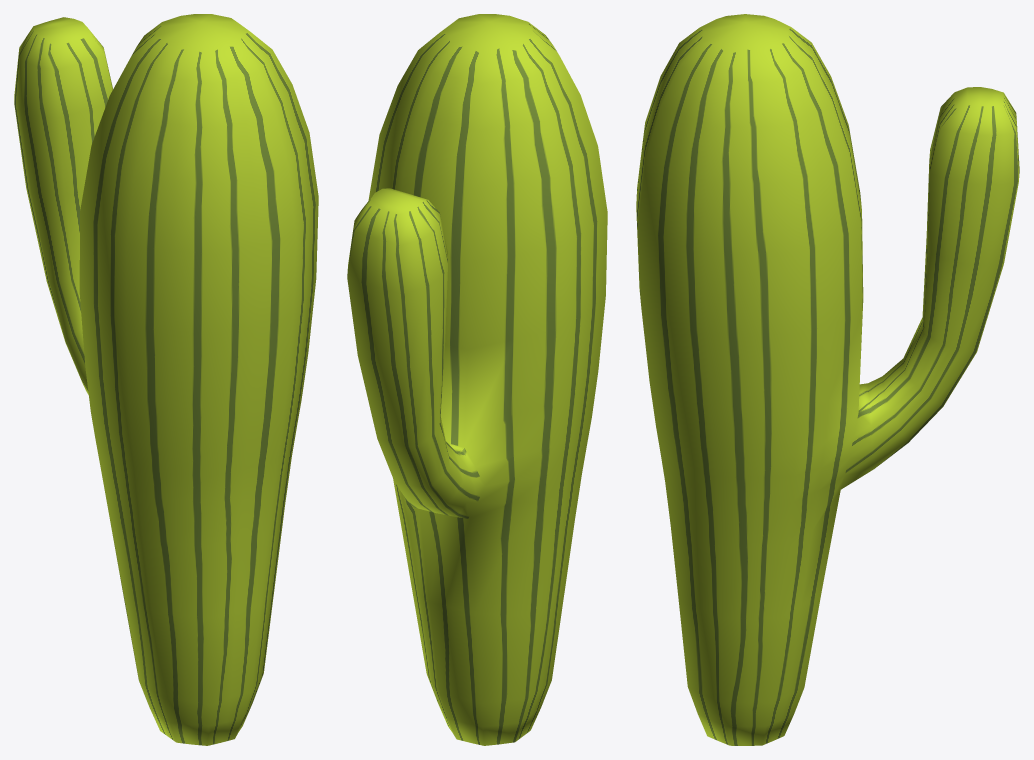
Rendered from Cactus_small.obj.
3 renders of one model, left to right at view 1: azimuth 30°, elevation 25°; view 2: azimuth 150°, elevation 25°; view 3: azimuth 270°, elevation 25°, orthographic.
Visible parts, largest first — view 1: Cactus_small_Cylinder.006; view 2: Cactus_small_Cylinder.006; view 3: Cactus_small_Cylinder.006.
Part boxes in pixels (left/top/right/bottom): Cactus_small_Cylinder.006: left=14, top=14, right=318, bottom=745; Cactus_small_Cylinder.006: left=347, top=14, right=607, bottom=745; Cactus_small_Cylinder.006: left=636, top=14, right=1019, bottom=745.
Size of the model in its own units: 0.3421 by 1.19 by 0.5813.
